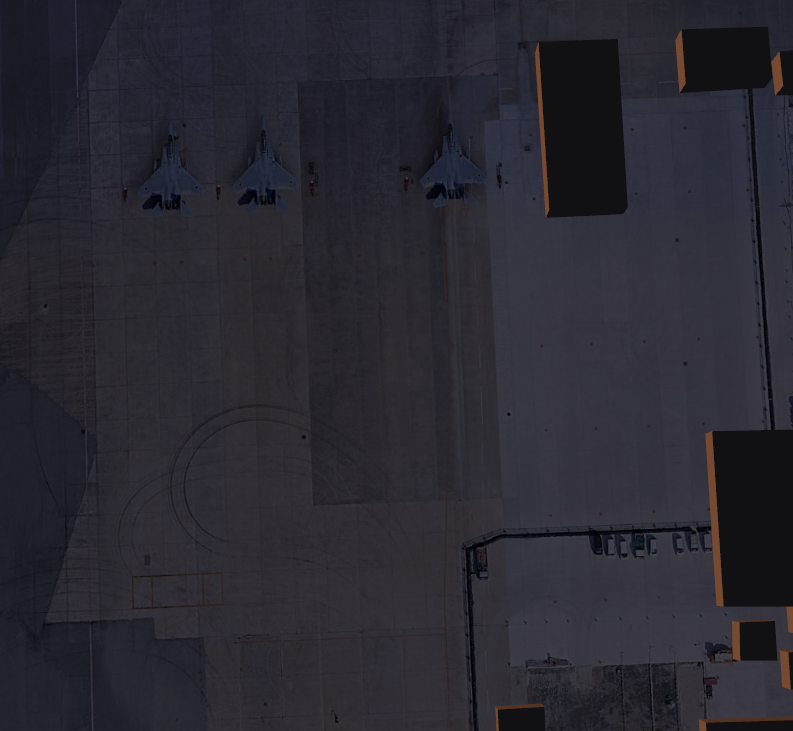A13: (134, 116, 210, 217), (225, 114, 301, 215), (412, 112, 488, 213)
